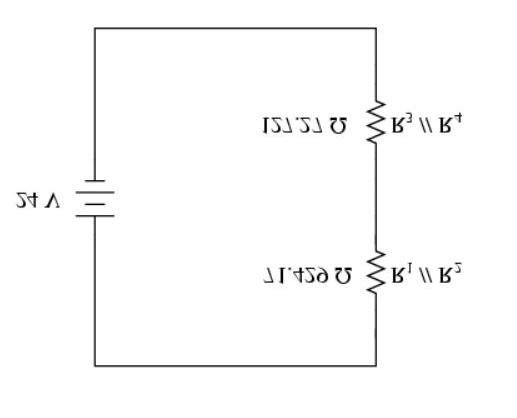Battery: (70, 154, 122, 232)
